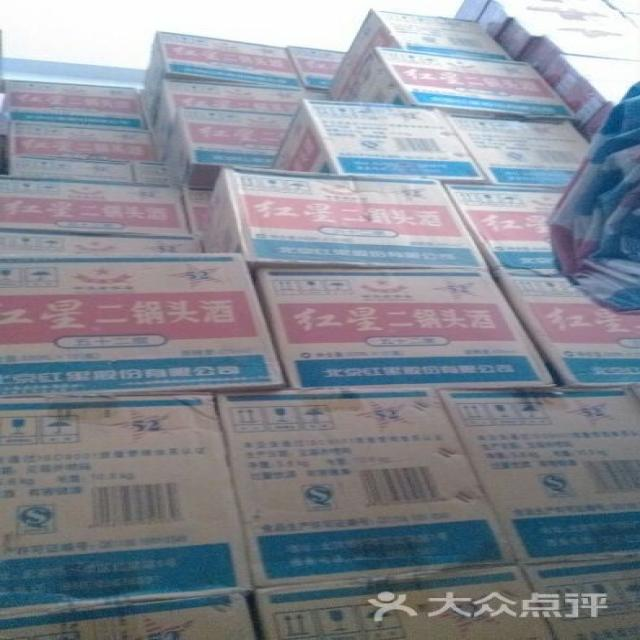box: (212, 388, 519, 588), (0, 391, 252, 614), (0, 252, 287, 397), (248, 268, 563, 389), (436, 386, 638, 564), (204, 165, 490, 269), (251, 564, 557, 640), (270, 100, 492, 183), (334, 46, 578, 119), (329, 8, 518, 101), (487, 6, 614, 142), (492, 269, 638, 387), (142, 31, 305, 127), (150, 79, 308, 160), (0, 175, 194, 238), (0, 594, 261, 639), (443, 183, 567, 272), (446, 112, 590, 188), (160, 107, 293, 189), (7, 122, 171, 186), (519, 556, 638, 640), (7, 80, 150, 132), (0, 231, 204, 254), (477, 0, 625, 30), (288, 47, 347, 89), (181, 186, 210, 251), (454, 0, 492, 20), (305, 89, 332, 101)
